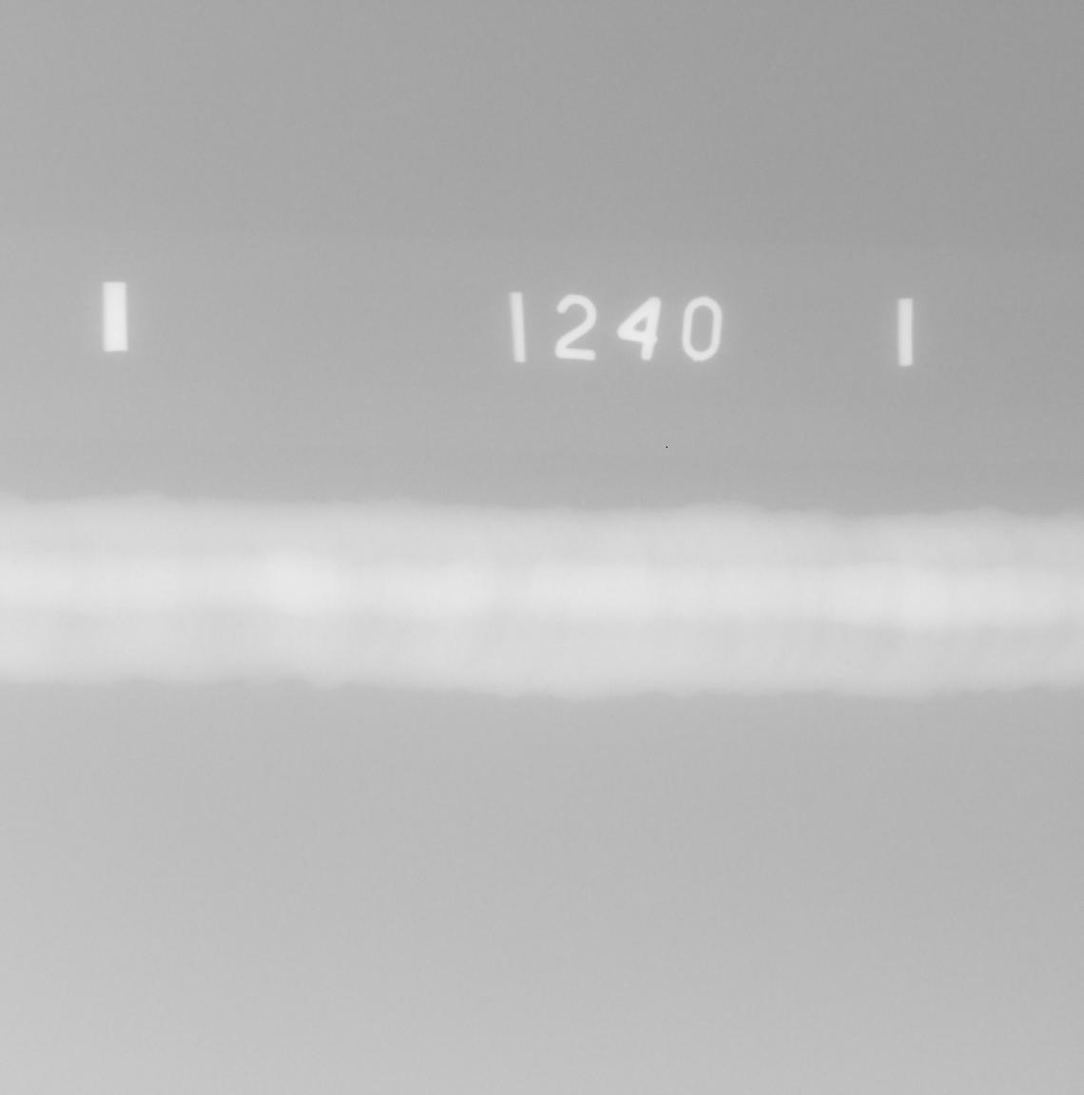Pore/Porosity: (12, 559, 17, 564)
